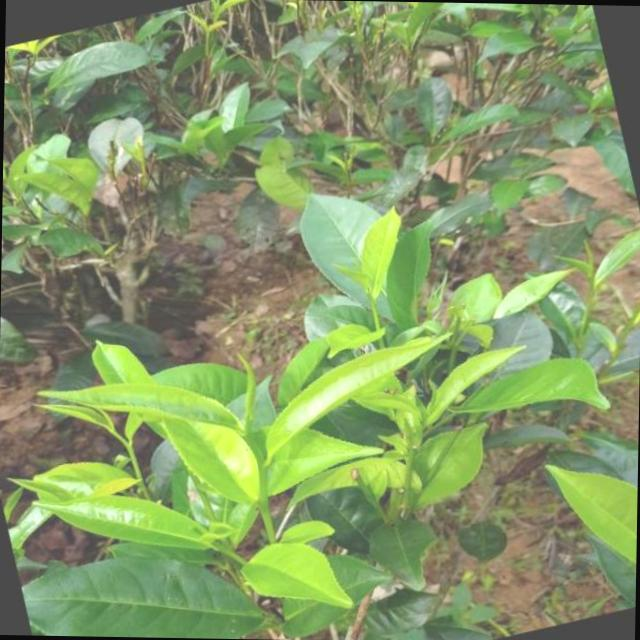Stem: (241, 432, 253, 442), (126, 444, 132, 450), (588, 290, 595, 295)
